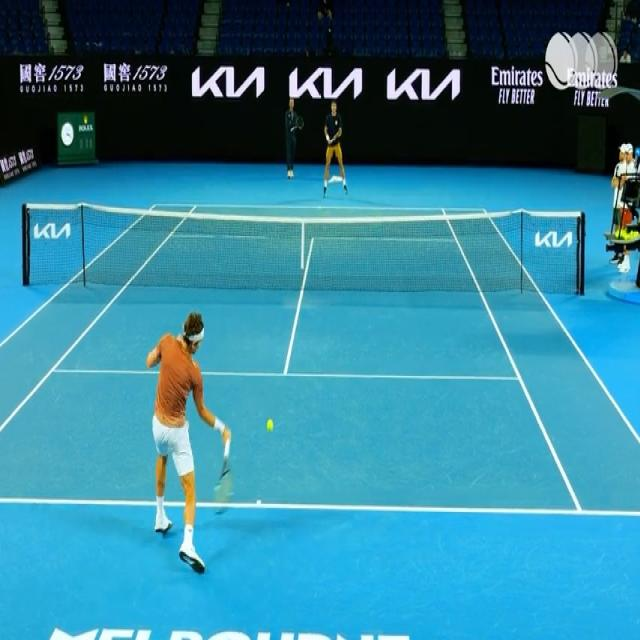forehand-stroke: (146, 312, 233, 574)
